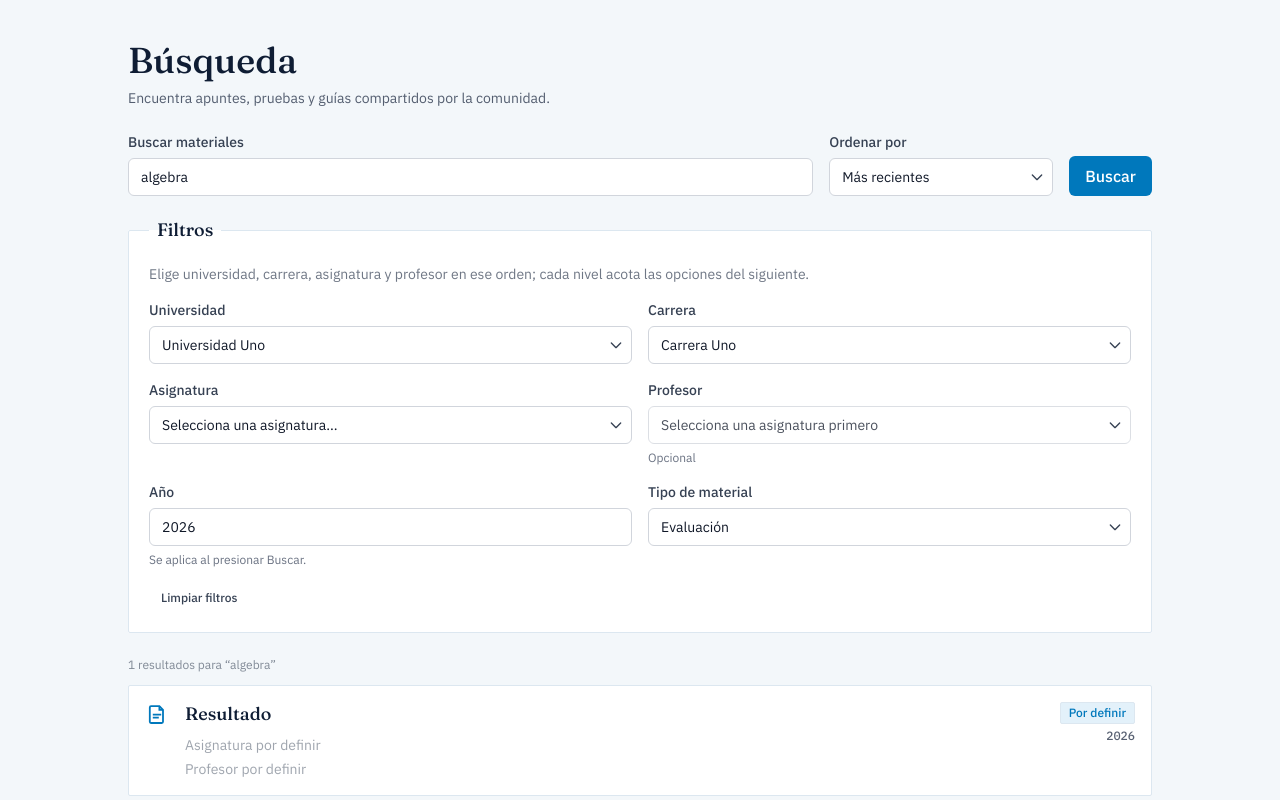
Test: SearchPage: filtros académicos › Limpiar filtros quita academia, año y tipo y conserva el texto
Expected: the heading "Resultado" is shown, [185,702,271,725]
Step 1. Click the button "Limpiar filtros" → point(199, 598), box [149,584,249,612]
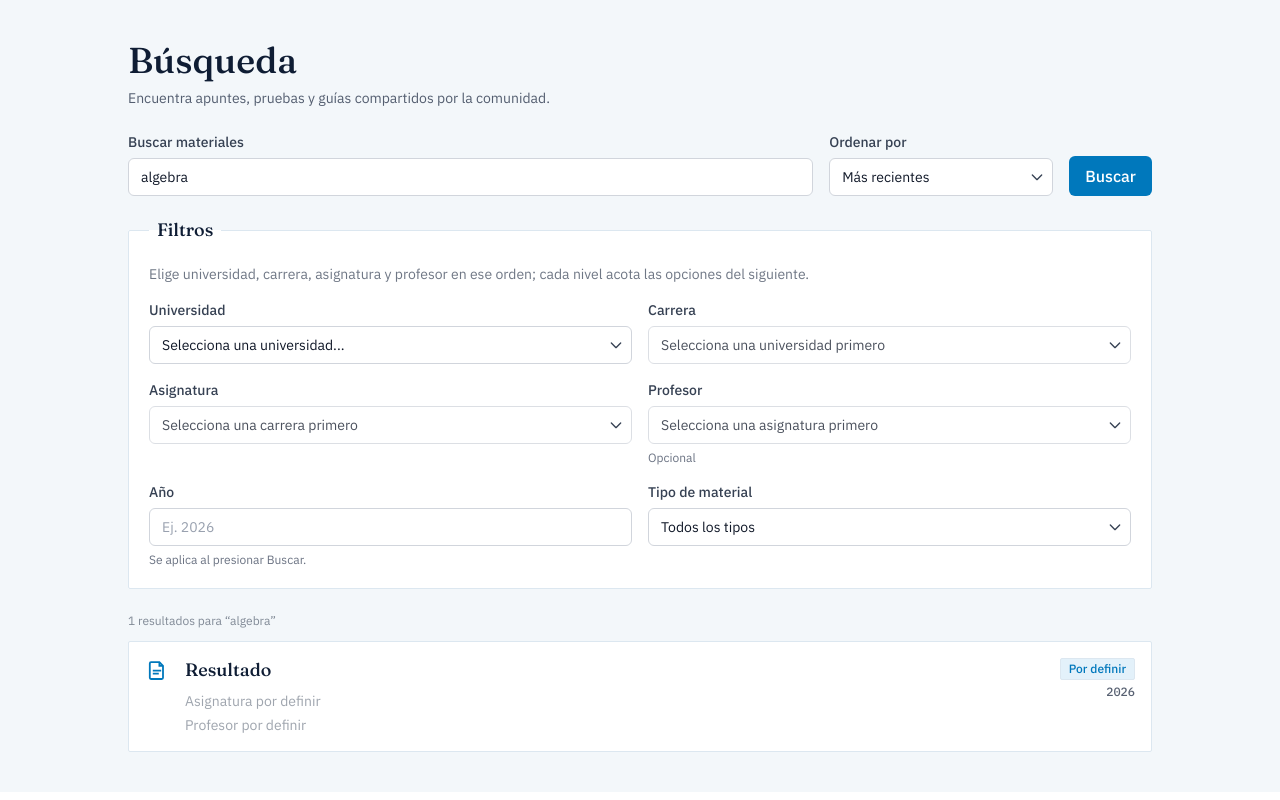
Expected: the dropdown labelled "Universidad" shows "Selecciona una universidad...", [149,326,632,364]
Expected: the field labelled "Año" is empty, [149,508,632,546]
Expected: the dropdown labelled "Tipo de material" shows "Todos los tipos", [648,508,1131,546]
